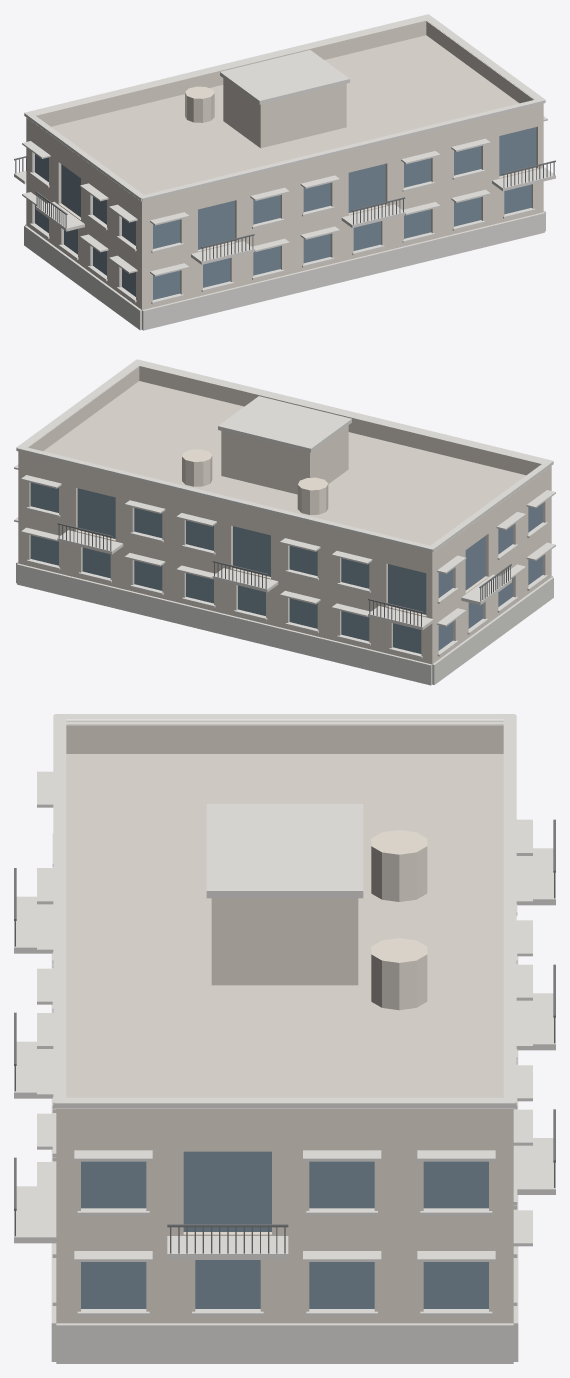
Rendered from West_Building_2.fbx.
The picture shows the model from 3 angles, top to bottom: view 1: azimuth 30°, elevation 25°; view 2: azimuth 150°, elevation 25°; view 3: azimuth 270°, elevation 25°; orthographic projection. The views are drawn at different scales.
Parts seen in each view (by area): view 1: West_Building_2; view 2: West_Building_2; view 3: West_Building_2.
Boxes of the visible parts, x1=… form: West_Building_2: x1=14, y1=14, x2=555, y2=330; West_Building_2: x1=14, y1=359, x2=555, y2=685; West_Building_2: x1=14, y1=714, x2=555, y2=1363.
Size of the model in its own units: 30.6 by 10.85 by 16.6.
